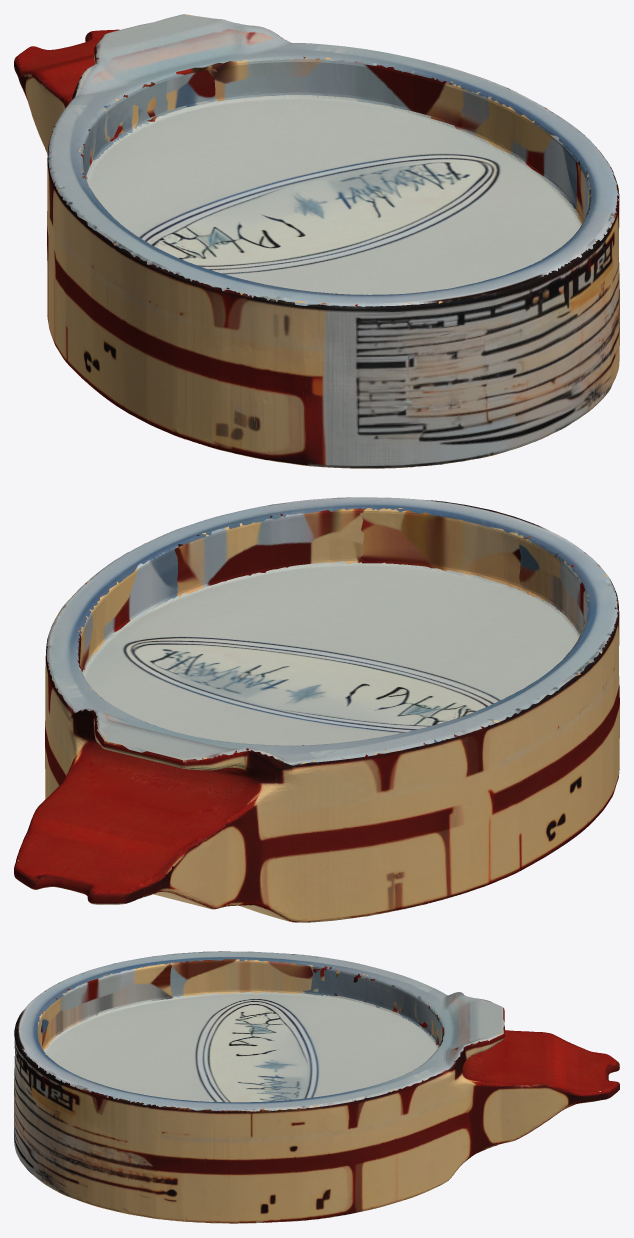
The model's file is image_0003_segmented.glb.
3 views of the same model, one above another, from view 1: azimuth 30°, elevation 25°; view 2: azimuth 150°, elevation 25°; view 3: azimuth 270°, elevation 25° (orthographic). The views are drawn at different scales.
Parts seen in each view (by area): view 1: tmpzfdgtagn.ply; view 2: tmpzfdgtagn.ply; view 3: tmpzfdgtagn.ply.
Part boxes in pixels (x1,y1,x2,y2): tmpzfdgtagn.ply: [14, 14, 619, 468]; tmpzfdgtagn.ply: [14, 497, 619, 922]; tmpzfdgtagn.ply: [14, 951, 619, 1223].
Bounding box in the file's own units: 1.25 × 0.4559 × 1.99.
Materials: 1 (1 with a texture image).
